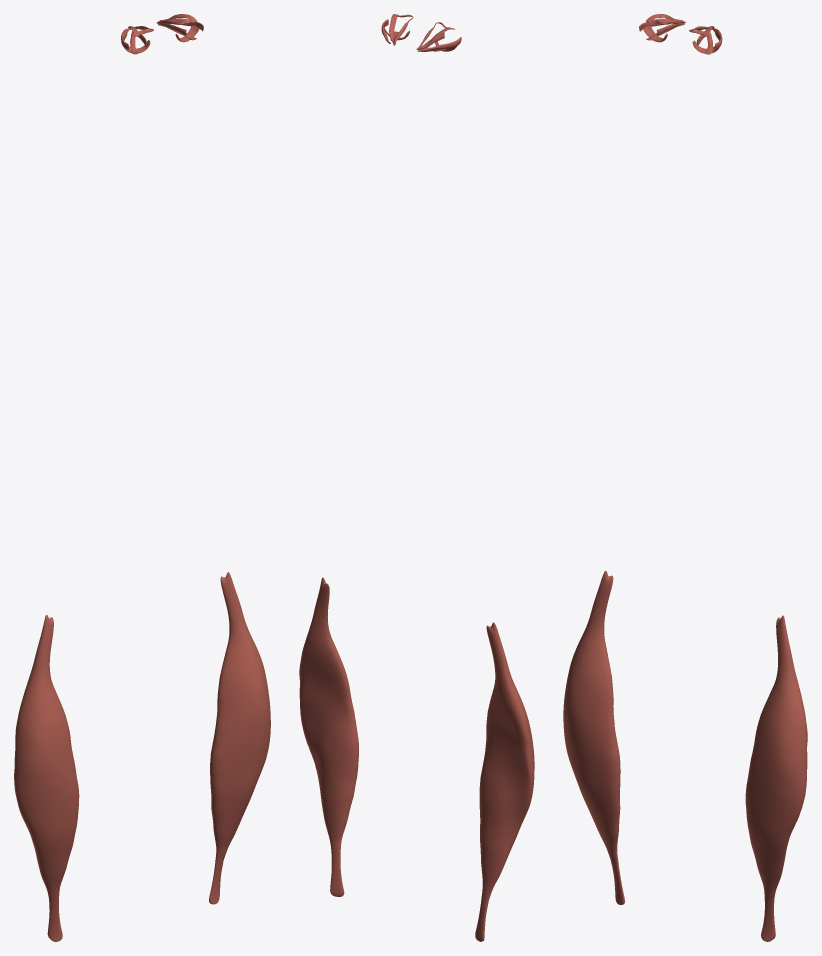
Rendered from muscular.glb.
3 renders of one model, left to right at view 1: azimuth 30°, elevation 25°; view 2: azimuth 150°, elevation 25°; view 3: azimuth 330°, elevation 25°, orthographic. The views are drawn at different scales.
Parts seen in each view (by area): view 1: Right rectus femoris, Left rectus femoris; view 2: Left rectus femoris, Right rectus femoris; view 3: Left rectus femoris, Right rectus femoris.
Part boxes in pixels (x1,y1,x2,y2): Right rectus femoris: (14,615,79,900); Left rectus femoris: (210,572,270,860); Left rectus femoris: (299,577,358,853); Right rectus femoris: (479,622,534,901); Left rectus femoris: (745,615,807,901); Right rectus femoris: (563,570,620,861).
Size of the model in its own units: 0.3173 by 1.12 by 0.067.
